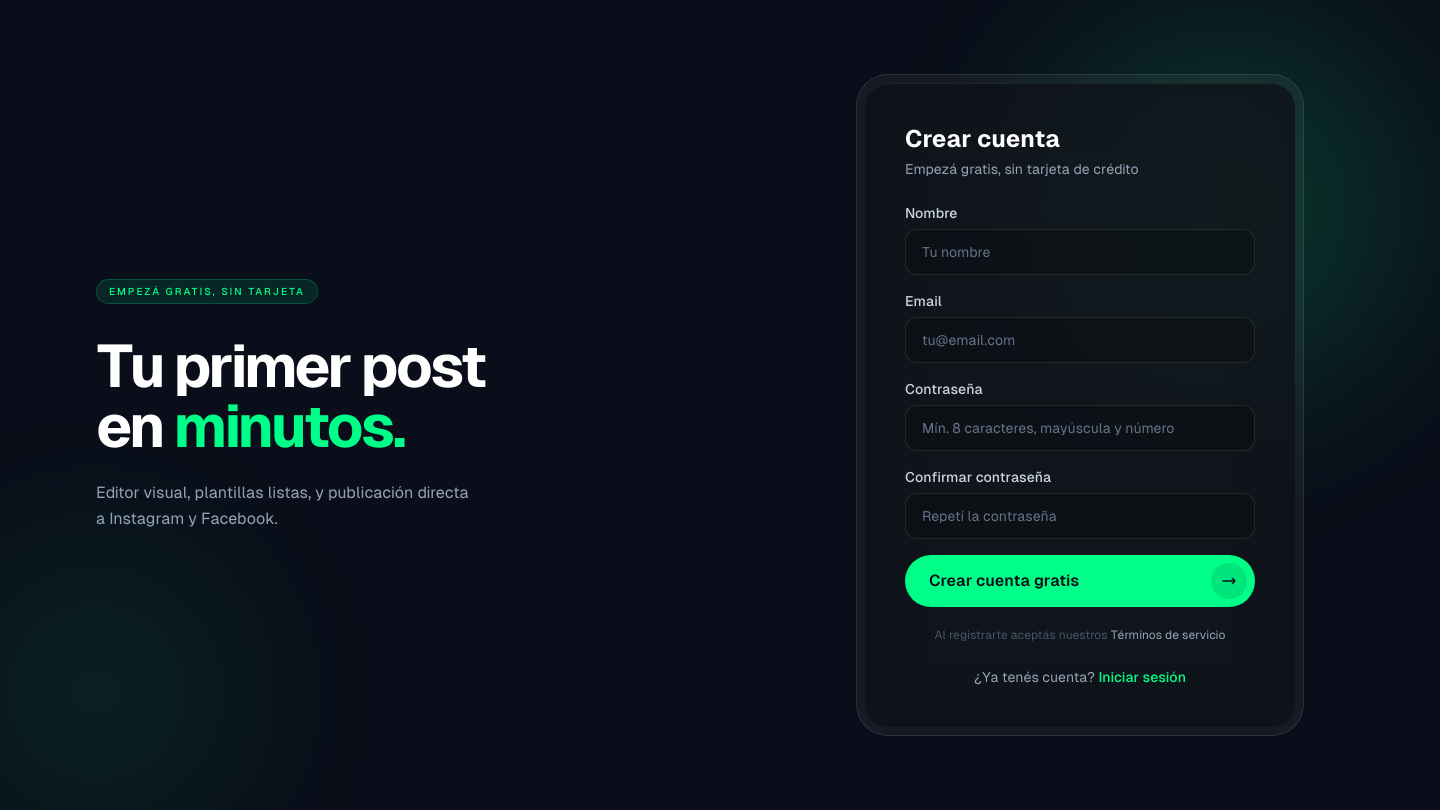
Test: Register › rechaza password sin mayúscula
Step 1. Type "Franco" into the field labelled "Nombre" → [1080, 252], box [905, 229, 1255, 275]
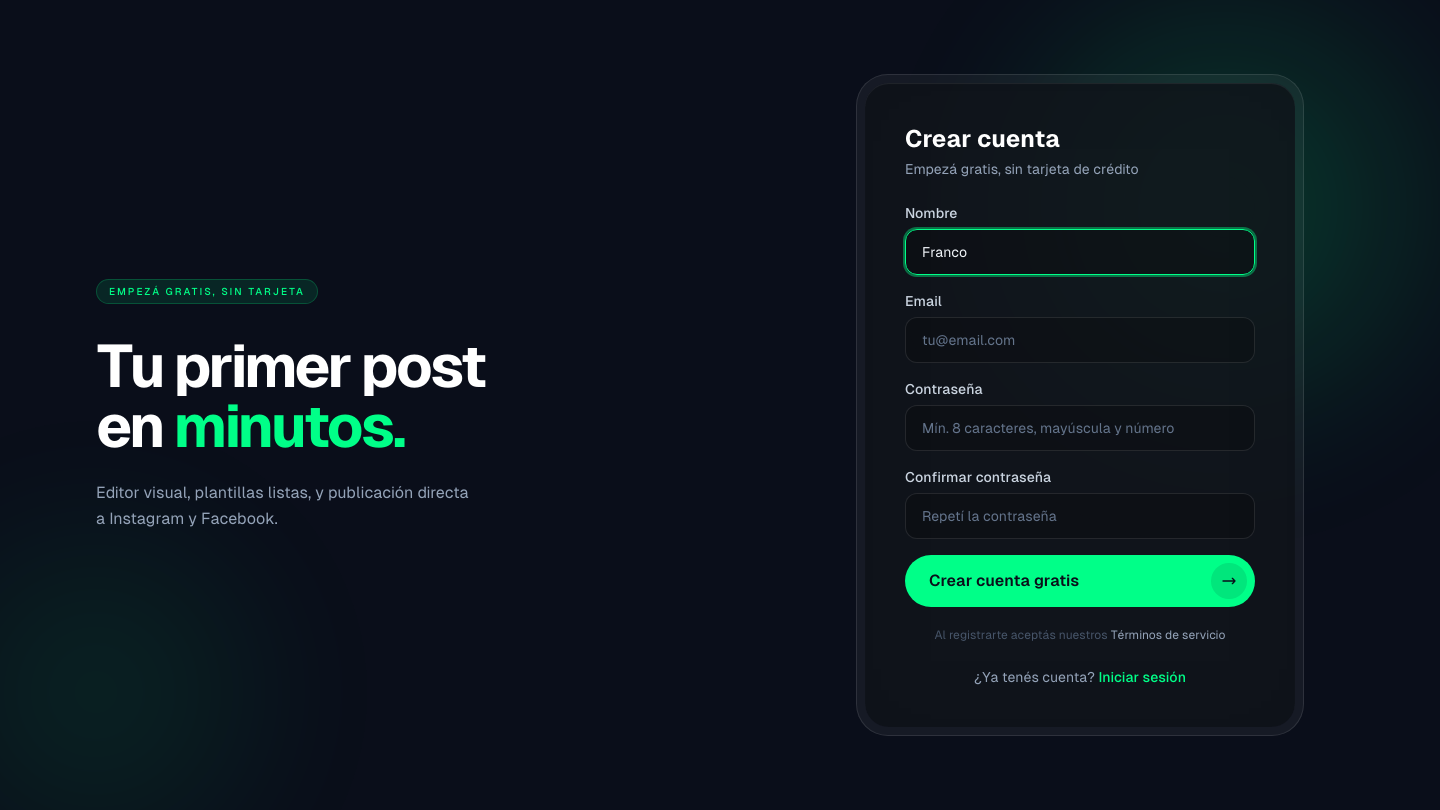
Step 2. Type "franco@test.com" into the field labelled "Email" → [1080, 340], box [905, 317, 1255, 363]
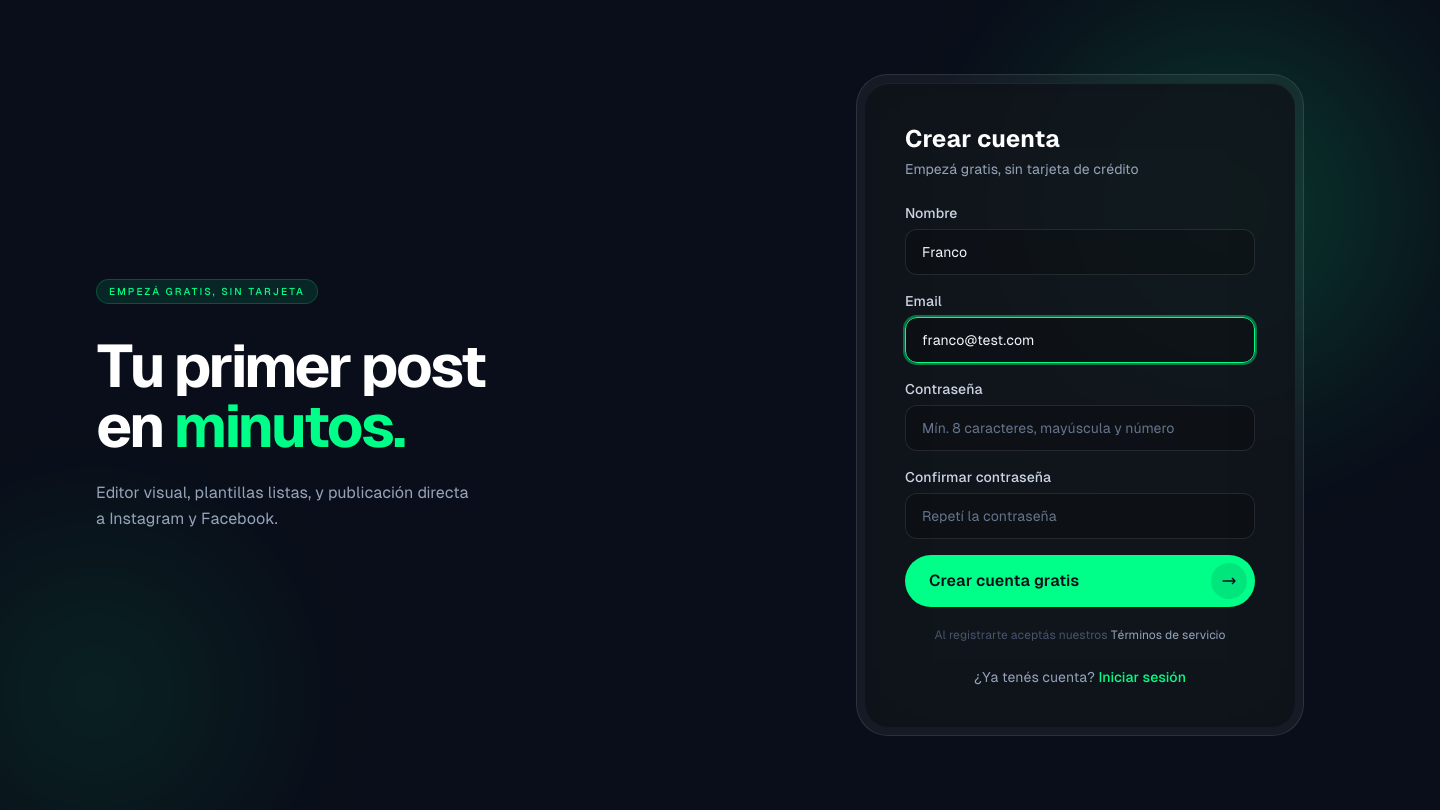
Step 3. Type "password1" into the password field labelled "Contraseña" → [1080, 428], box [905, 405, 1255, 451]
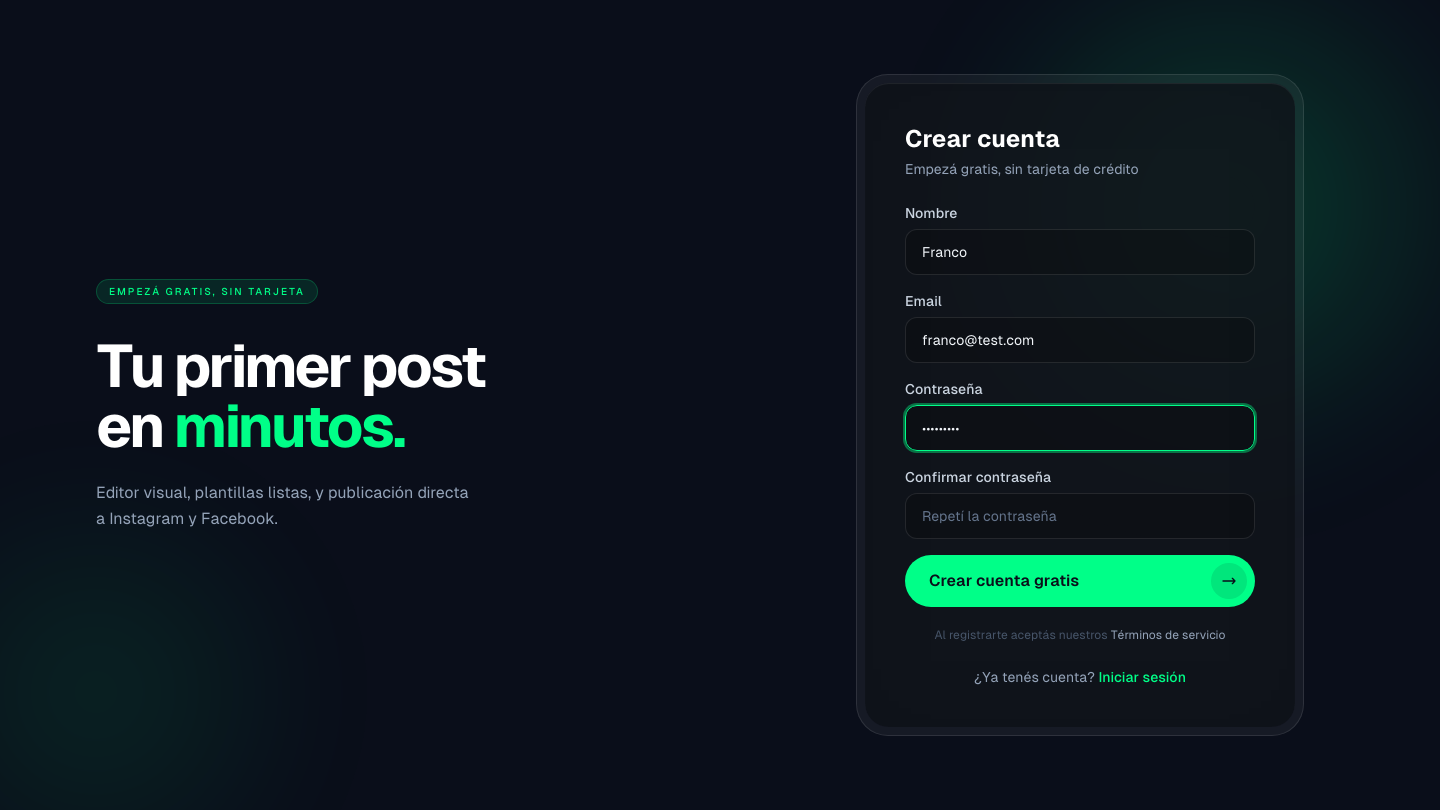
Step 4. Type "password1" into the password field labelled "Confirmar contraseña" → [1080, 516], box [905, 493, 1255, 539]
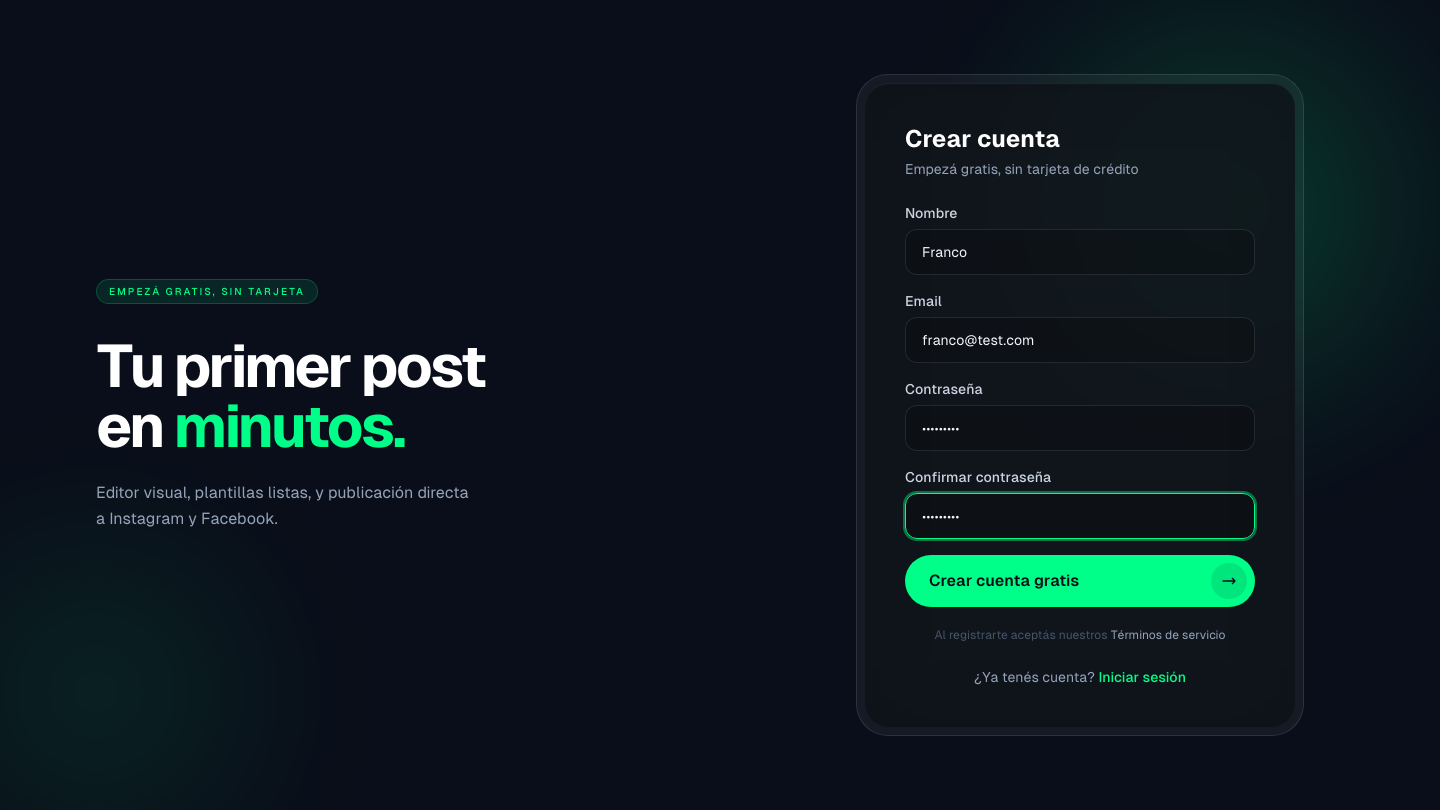
Step 5. Click the button "Crear cuenta gratis" → [1080, 581], box [905, 555, 1255, 607]
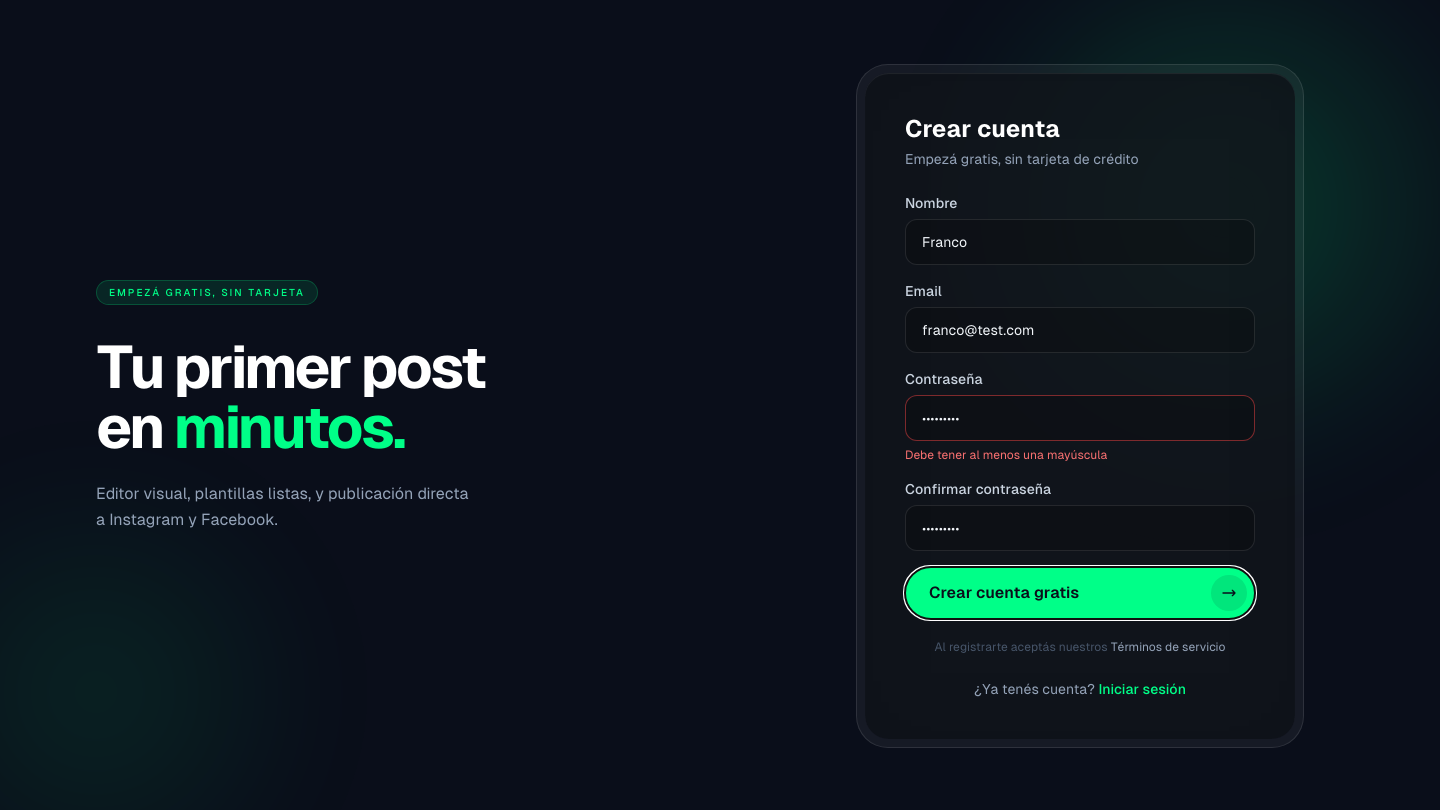
Expected: the text "Debe tener al menos una mayúscula" is shown, [905, 448, 1108, 462]
